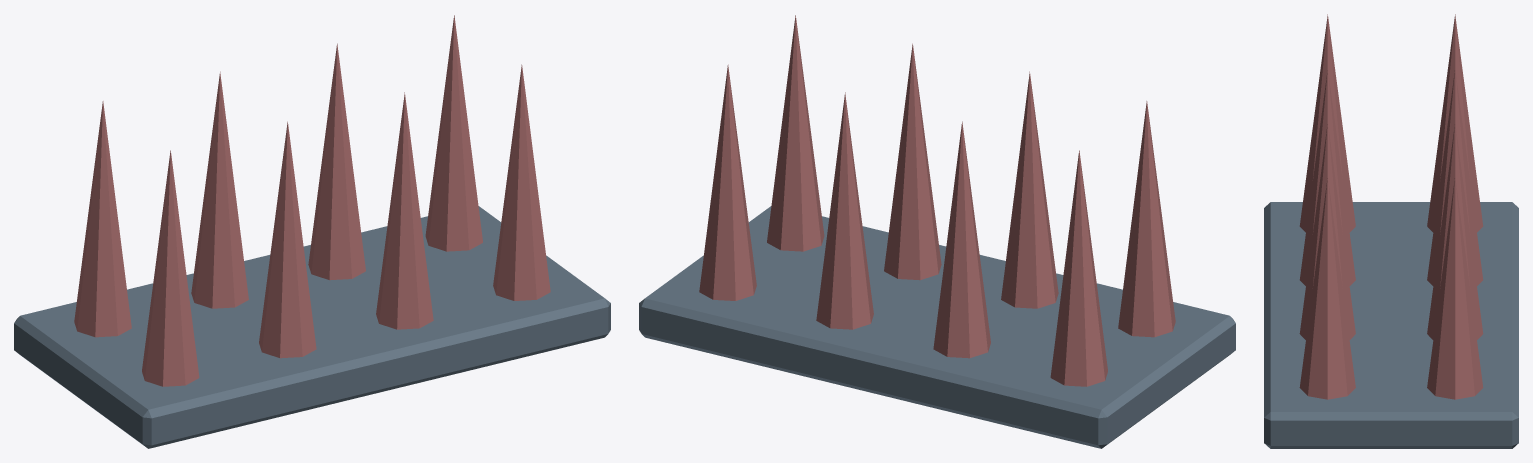
Rendered from SH10_L08_SpikeBarricade.fbx.
3 views of the same model, side by side, from view 1: azimuth 30°, elevation 25°; view 2: azimuth 150°, elevation 25°; view 3: azimuth 270°, elevation 25° (orthographic). The views are drawn at different scales.
Parts seen in each view (by area): view 1: SH10_L08_SpikeBarricade; view 2: SH10_L08_SpikeBarricade; view 3: SH10_L08_SpikeBarricade.
Part boxes in pixels (x1,y1,x2,y2): SH10_L08_SpikeBarricade: (14,15,610,448); SH10_L08_SpikeBarricade: (639,15,1235,448); SH10_L08_SpikeBarricade: (1264,14,1518,448).
Bounding box in the file's own units: 200 × 108 × 100.
